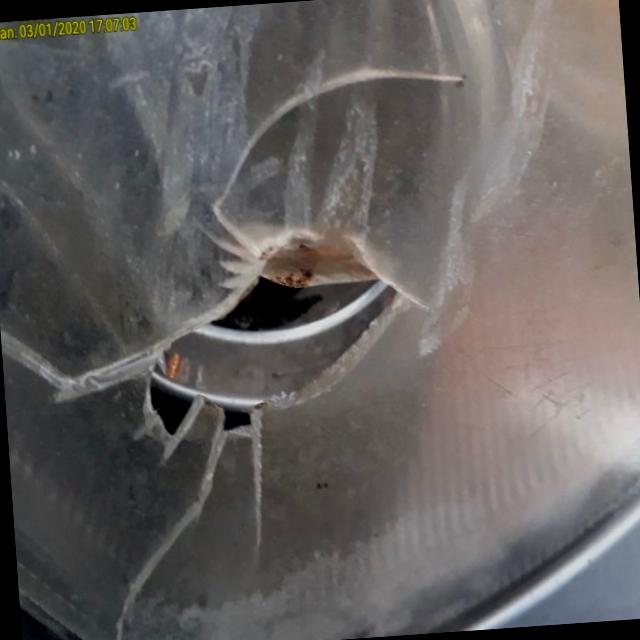Phare abime: (0, 53, 523, 640)
